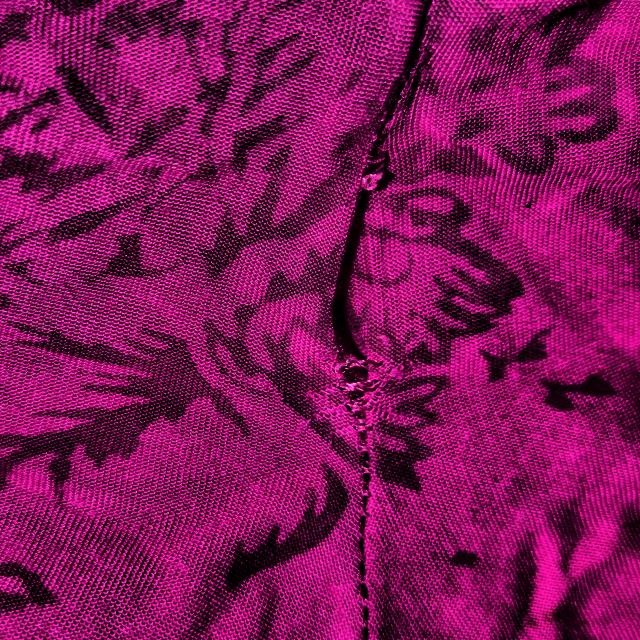Stitch: (314, 97, 435, 240)
seam: (240, 87, 476, 468)
